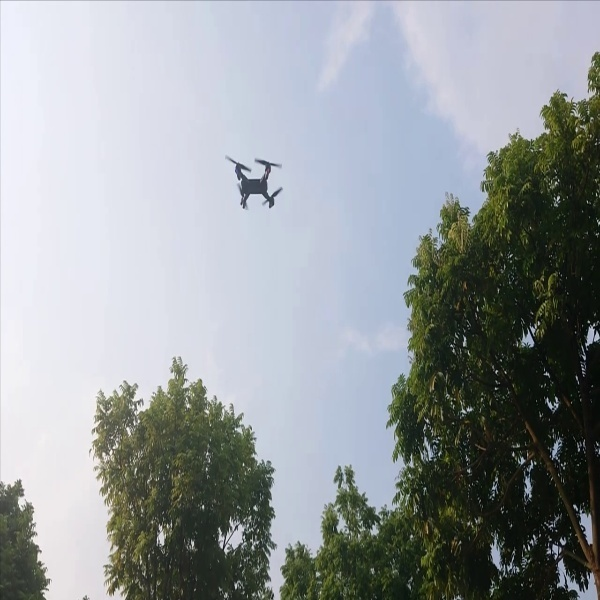drone: (211, 145, 294, 217)
